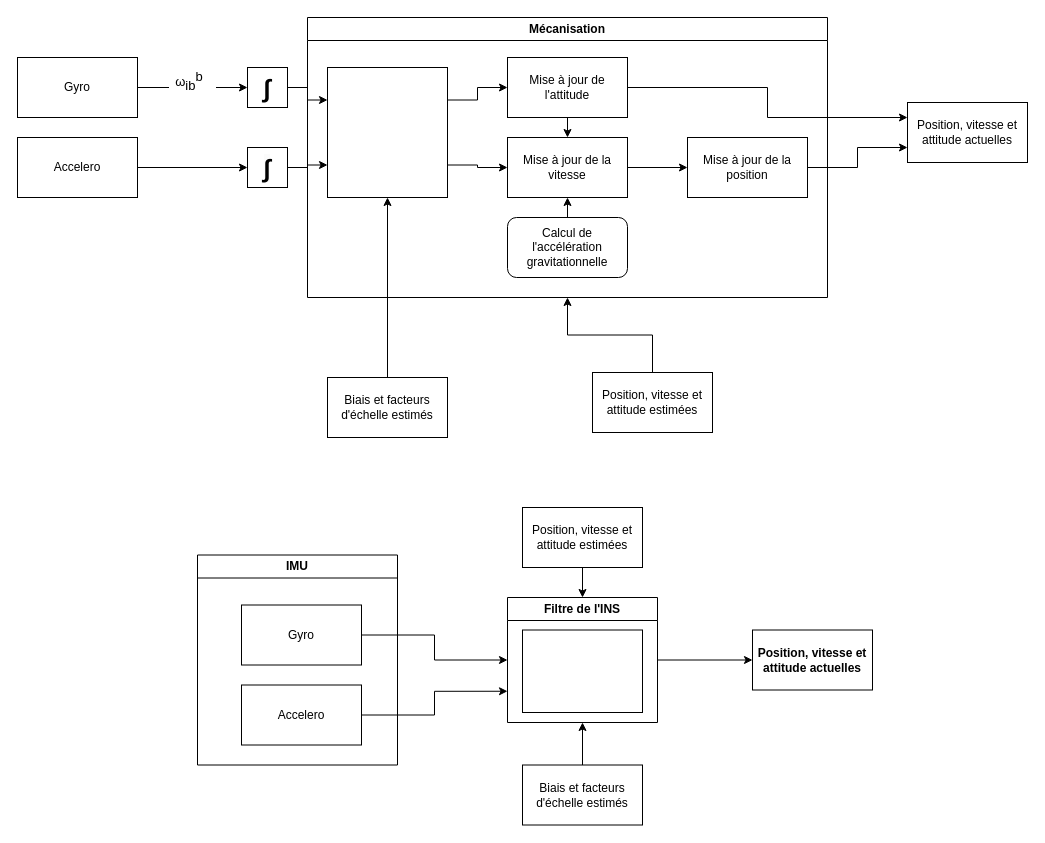
This 1045x843 diagram has some shape labels left out. Here are the shapes that lost their labels. From the top down, the centre of each, then its label:
At point (387, 132): "Compensation".
At point (582, 670): "Integration Compensation Mécanisation".
